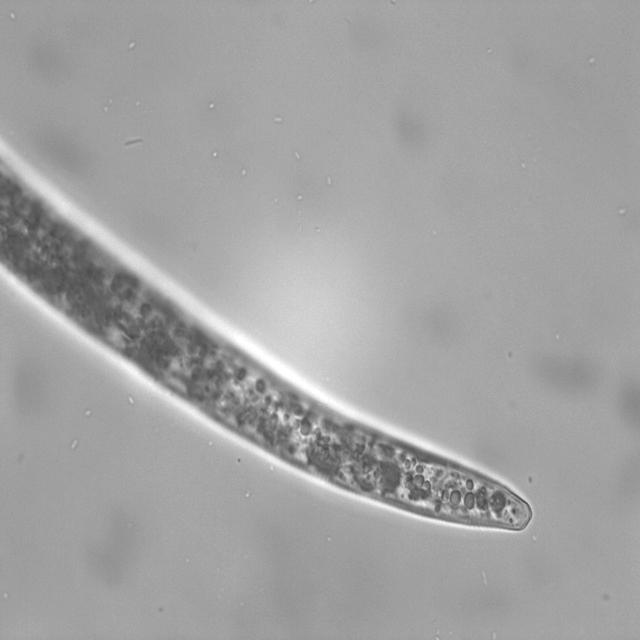Pratylenchus: (176, 307, 544, 539)
